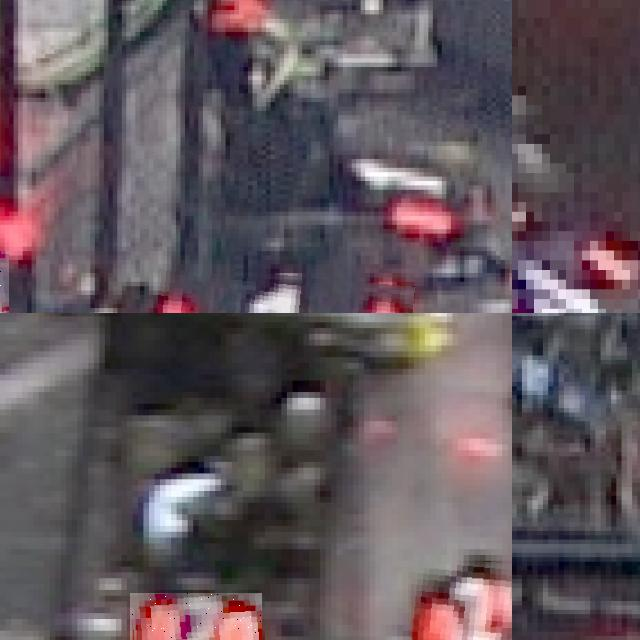R1: (158, 264, 415, 313)
R2: (410, 555, 512, 640), (129, 593, 262, 640)
